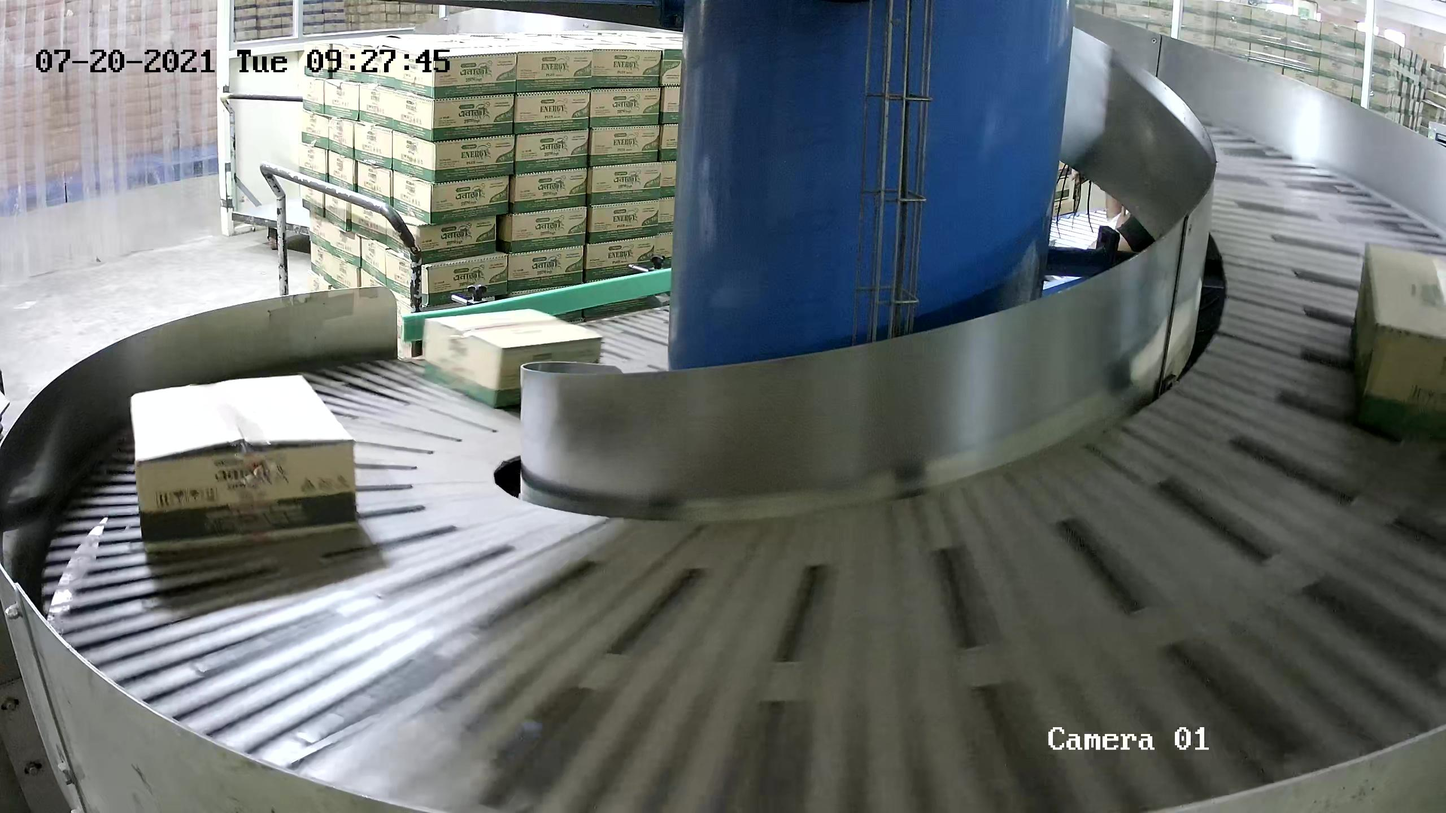Box: (130, 374, 361, 557), (1347, 240, 1446, 450), (421, 307, 604, 414)
